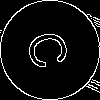C: (25, 25, 79, 72)
